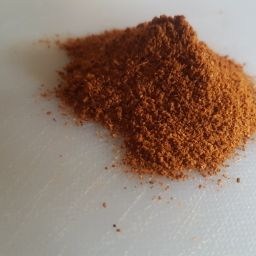Cinemon powder: (32, 11, 256, 187)
